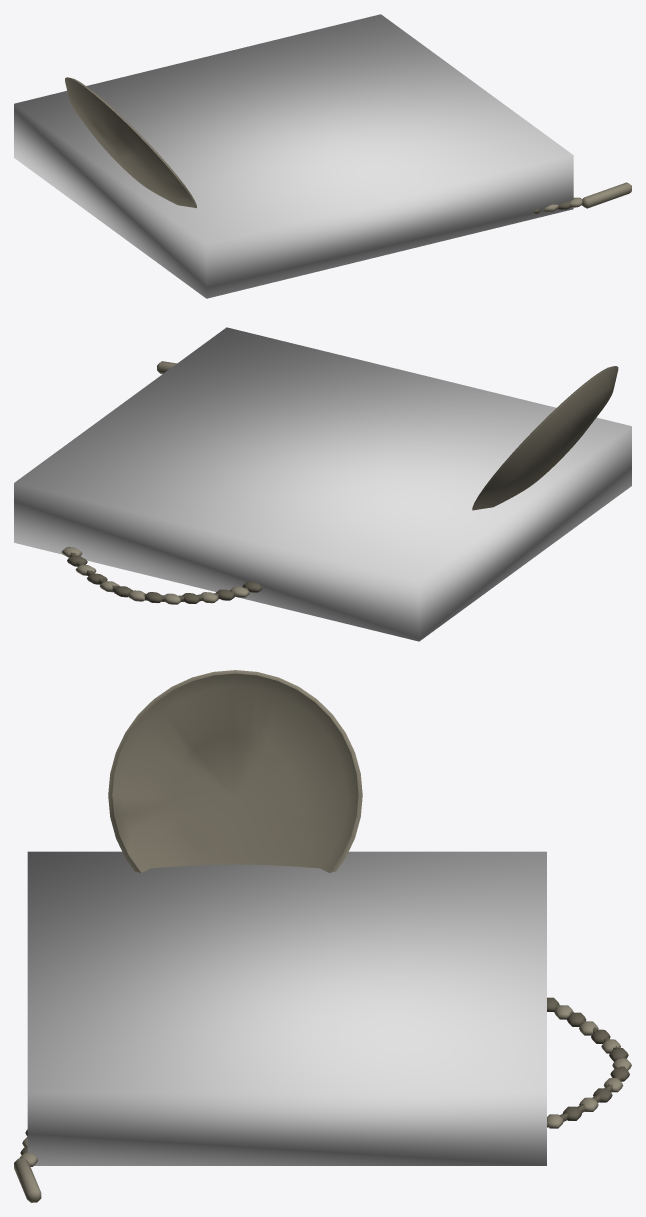
The model's file is reloj_bolsillo.glb.
The picture shows the model from 3 angles, top to bottom: view 1: azimuth 30°, elevation 25°; view 2: azimuth 150°, elevation 25°; view 3: azimuth 270°, elevation 25°; orthographic projection. The views are drawn at different scales.
Visible parts, largest first — view 1: reloj-colcaja, tapa, cadena; view 2: reloj-colcaja, tapa, cadena; view 3: reloj-colcaja, tapa, cadena.
Boxes of the visible parts, left/top/right/bottom form: reloj-colcaja: left=14, top=14, right=573, bottom=298; tapa: left=65, top=77, right=196, bottom=208; cadena: left=533, top=182, right=631, bottom=213; reloj-colcaja: left=14, top=327, right=631, bottom=641; tapa: left=472, top=366, right=618, bottom=510; cadena: left=61, top=361, right=262, bottom=604; reloj-colcaja: left=27, top=851, right=546, bottom=1165; tapa: left=108, top=670, right=362, bottom=872; cadena: left=14, top=997, right=631, bottom=1202.
Bounding box in the file's own units: 0.1415 × 0.0478 × 0.119.
